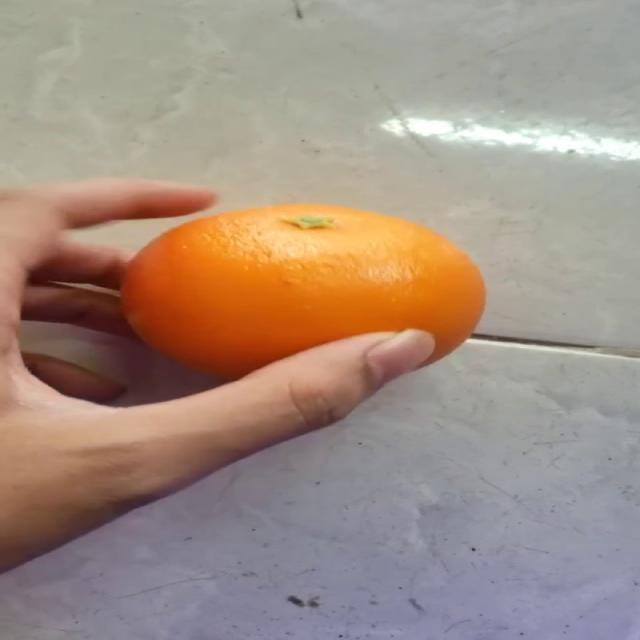Orange: (118, 201, 487, 378)
